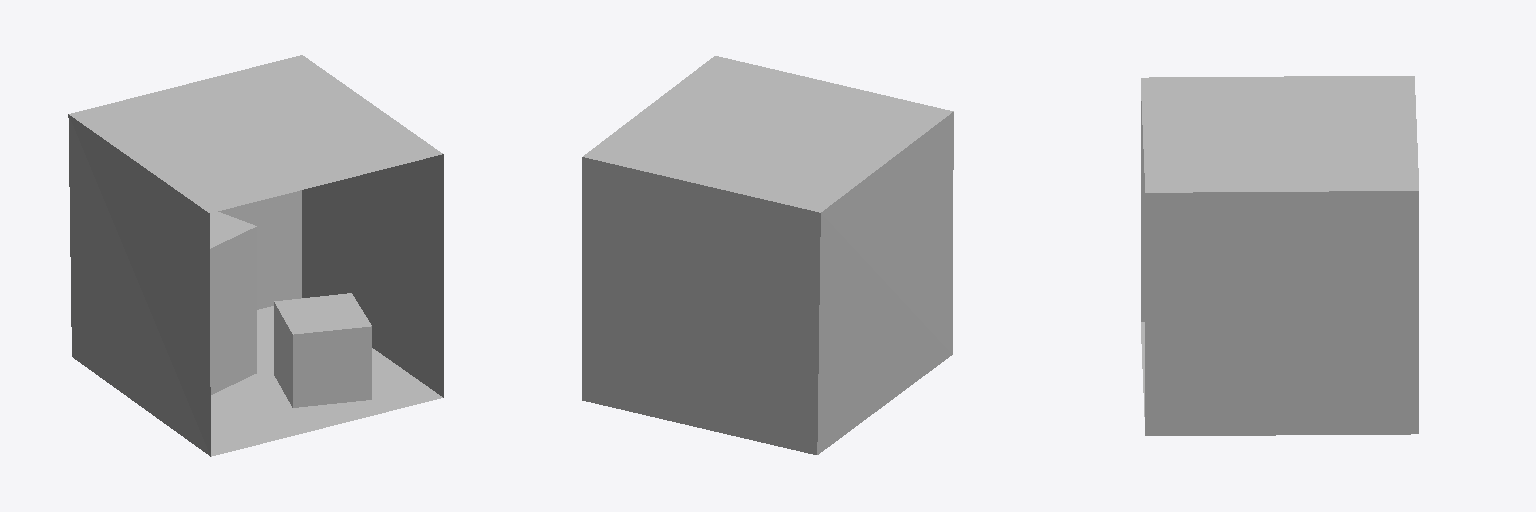
3 renders of one model, left to right at view 1: azimuth 30°, elevation 25°; view 2: azimuth 150°, elevation 25°; view 3: azimuth 270°, elevation 25°, orthographic.
Visible parts, largest first — view 1: CornellBox-Original; view 2: CornellBox-Original; view 3: CornellBox-Original.
Boxes of the visible parts, box(x1,y1,x2,y2) form: CornellBox-Original: box(68, 55, 443, 456); CornellBox-Original: box(582, 56, 953, 454); CornellBox-Original: box(1141, 76, 1418, 435).
Size of the model in its own units: 4.74 by 4.59 by 4.76.